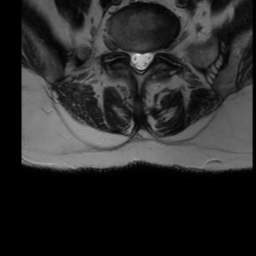CCS_normal: (136, 43, 144, 79)
LFS_stenosis: (153, 40, 162, 62)
LLS_normal: (144, 43, 153, 73)
RFS_severe_stenosis: (120, 39, 128, 62)
RLS_normal: (128, 43, 136, 74)
